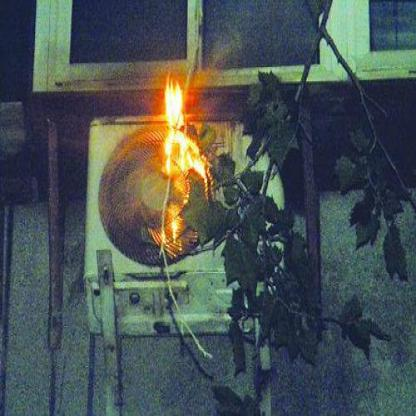fire: (135, 66, 214, 248)
